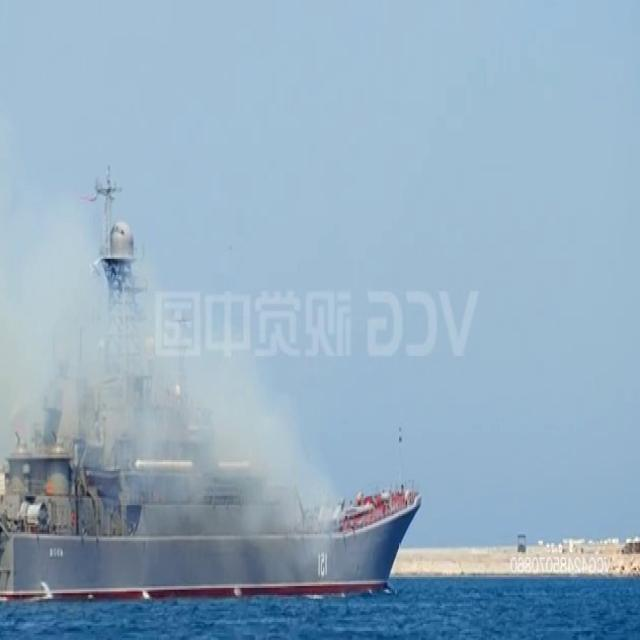navalvessels: (0, 225, 417, 609)
